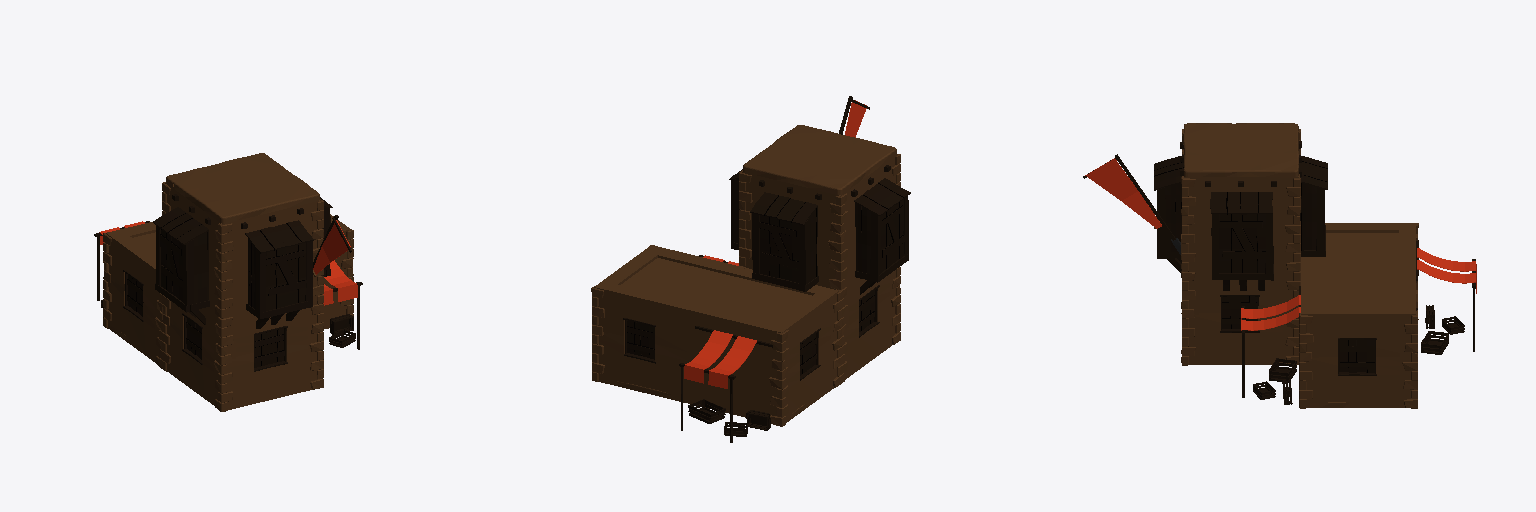
The model's file is Hij1.obj.
3 renders of one model, left to right at view 1: azimuth 30°, elevation 25°; view 2: azimuth 150°, elevation 25°; view 3: azimuth 270°, elevation 25°, orthographic.
Visible parts, largest first — view 1: building_base; view 2: building_base; view 3: building_base.
Part boxes in pixels (x1,y1,x2,y2): building_base: (94, 153, 362, 411); building_base: (591, 96, 910, 442); building_base: (1083, 123, 1476, 408).
Size of the model in its own units: 7.22 by 6.45 by 11.43.